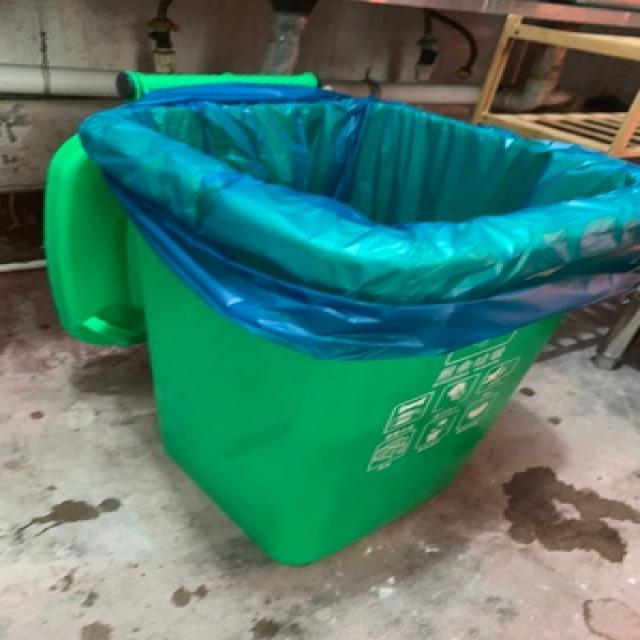ash bin: (39, 64, 636, 566)
